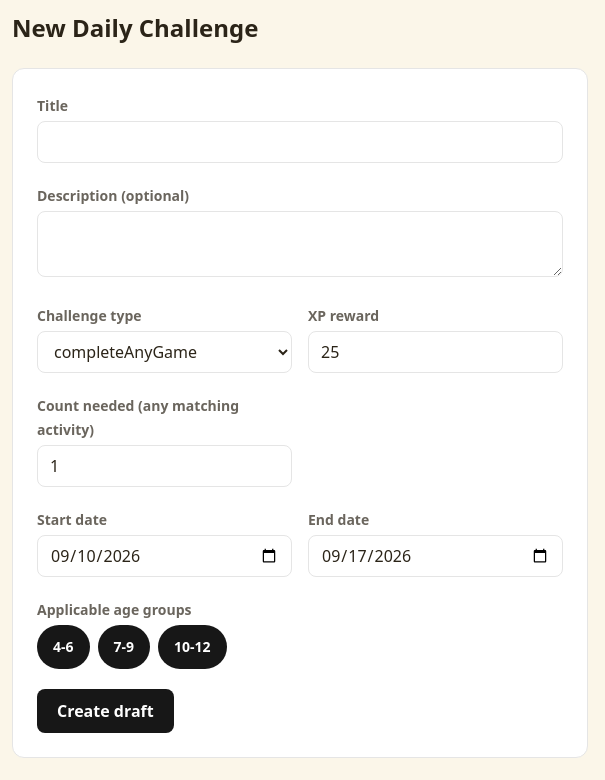
Test: Admin: Daily Challenge editor › surfaces the backend's validation rejection when saving a specific-game challenge with no gameId (regression: this used to silently succeed and never work)
The image size is (605, 780).
Expected: the heading "New Daily Challenge" is shown, [12,12,258,44]
Type "Play a specific game" into the field labelled "Title".
click(300, 142); type("Play a specific game")  # box [37,121,563,163]
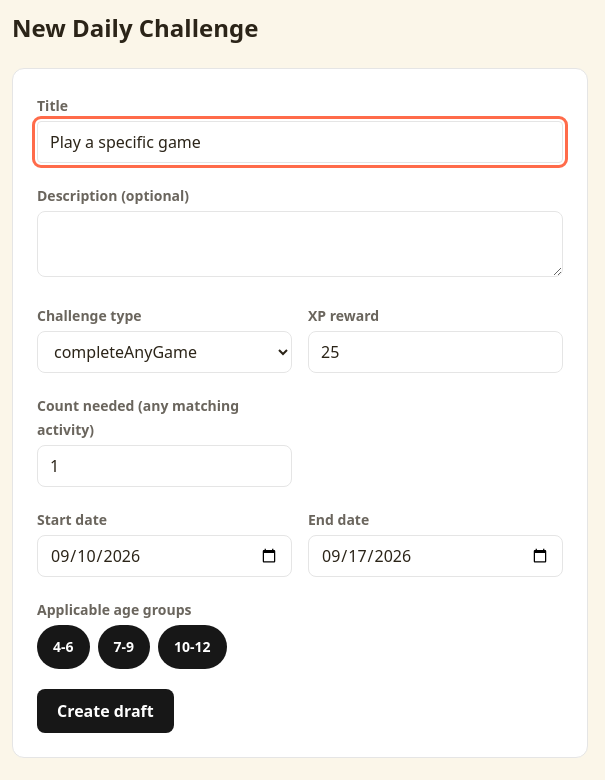
Select "completeSpecificGame" in the dropdown labelled "Challenge type" at (164, 352), box [37,331,292,373]
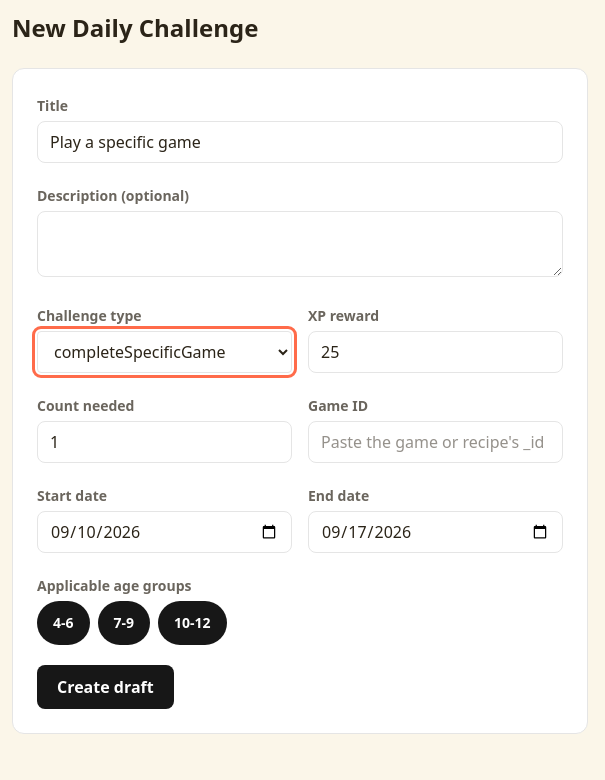
Click the button "Create draft".
click(105, 687)  # box [37,665,174,709]
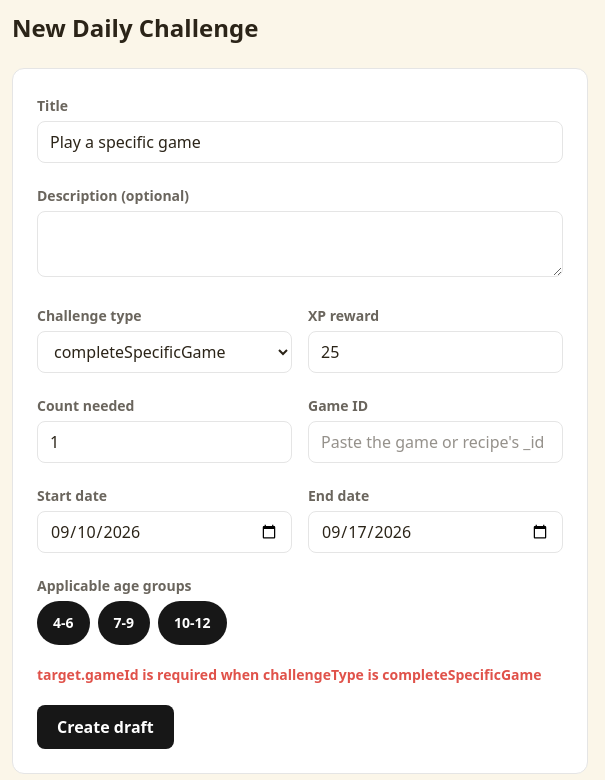
Now the message shows "gameId is required", box [37,665,542,684]
